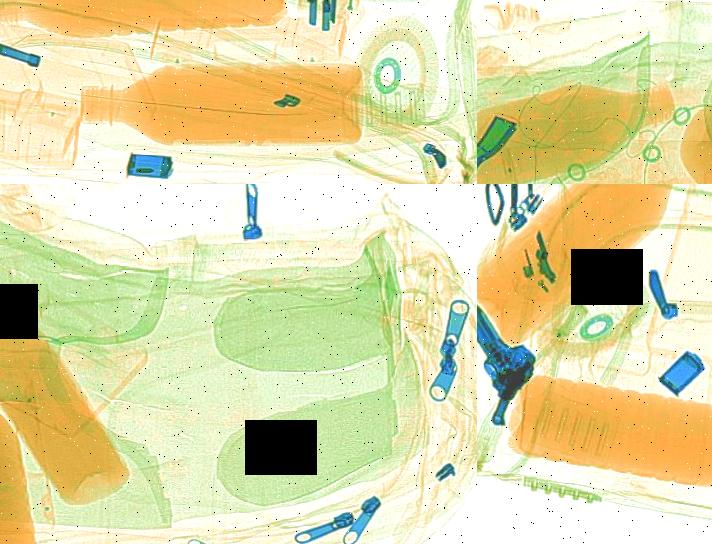Gun: (477, 287, 543, 429), (0, 0, 111, 72), (477, 111, 525, 184)
